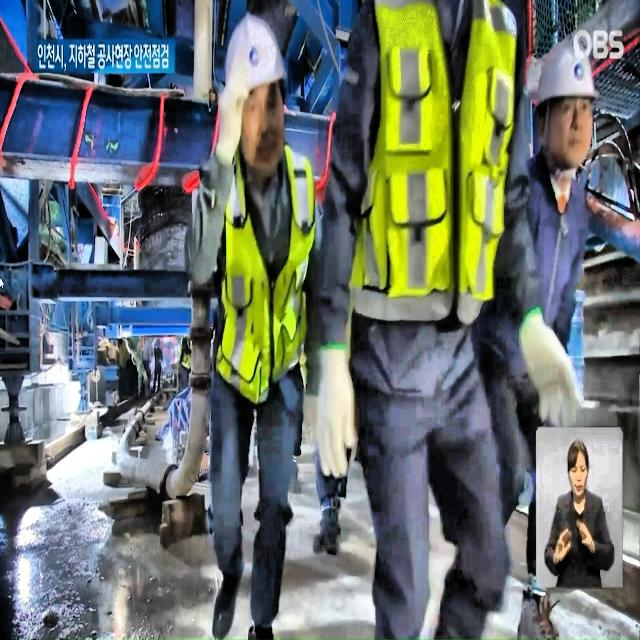safety_helmet: (222, 28, 300, 102), (539, 36, 604, 110)
safety_jacket: (365, 14, 521, 348), (204, 175, 322, 395)
